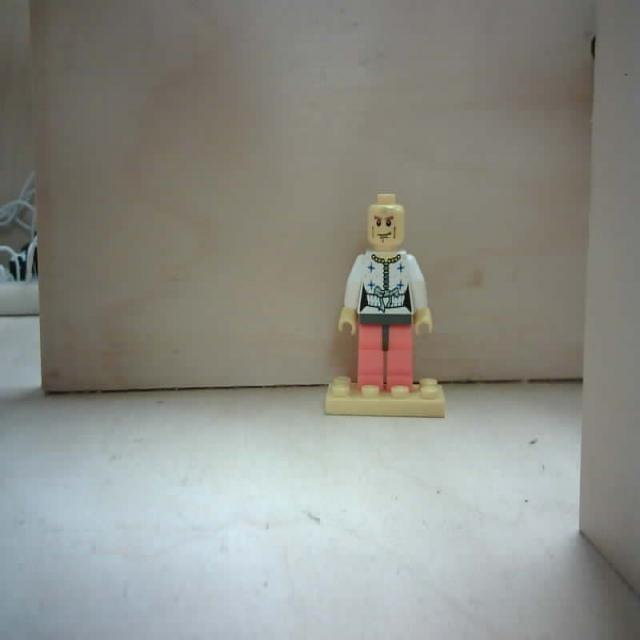Lego-People: (316, 188, 451, 428)
